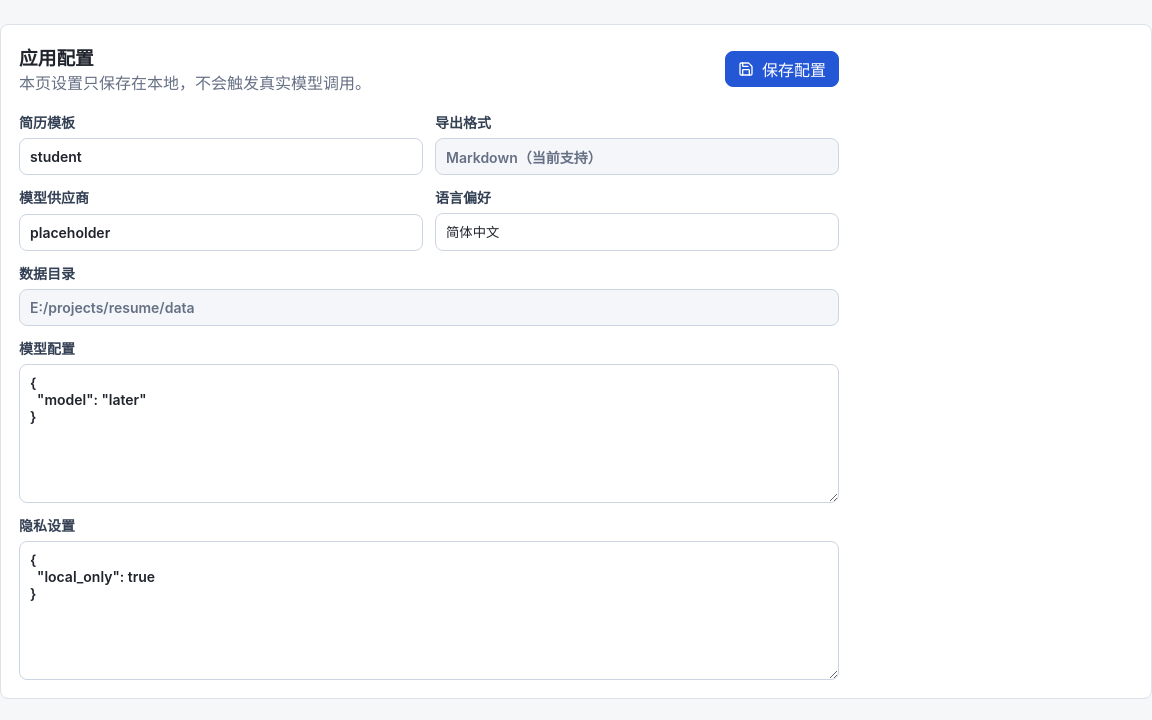
SettingsPage › retains the form and retries after saving fails
Replace the text in the field labelled "模型供应商" with "local-placeholder" at point(221, 232), box [19,214,423,251]
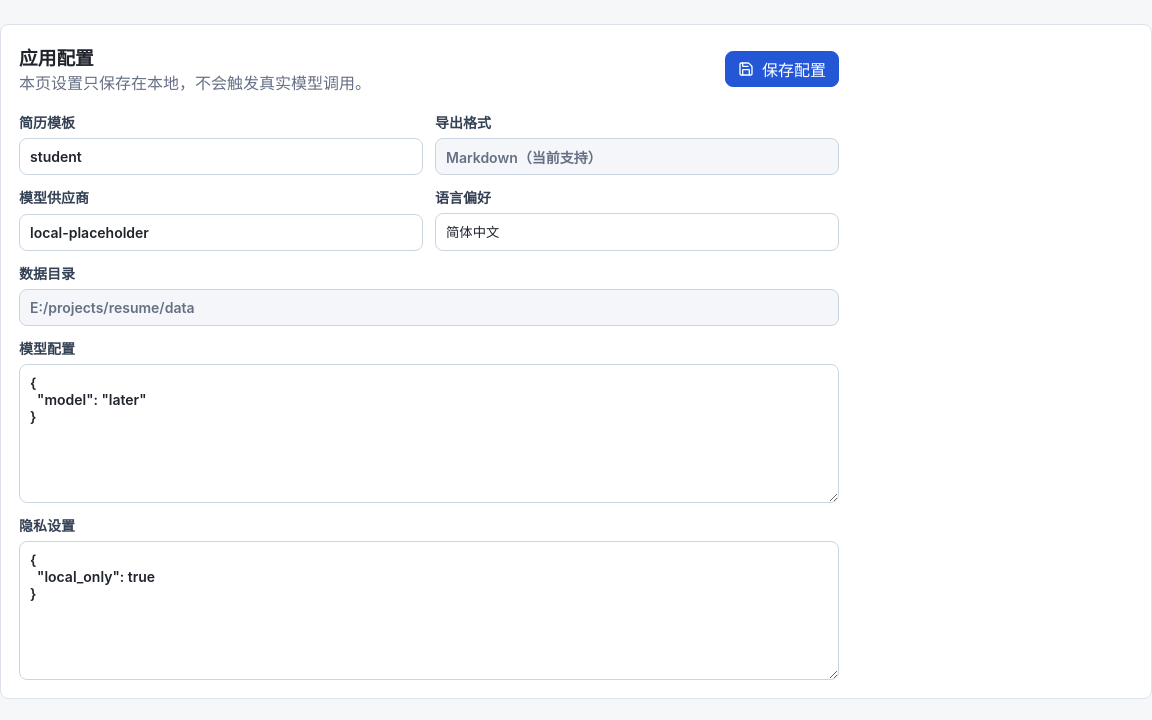
Click the button "保存配置" at point(782, 68), box [725,50,839,86]
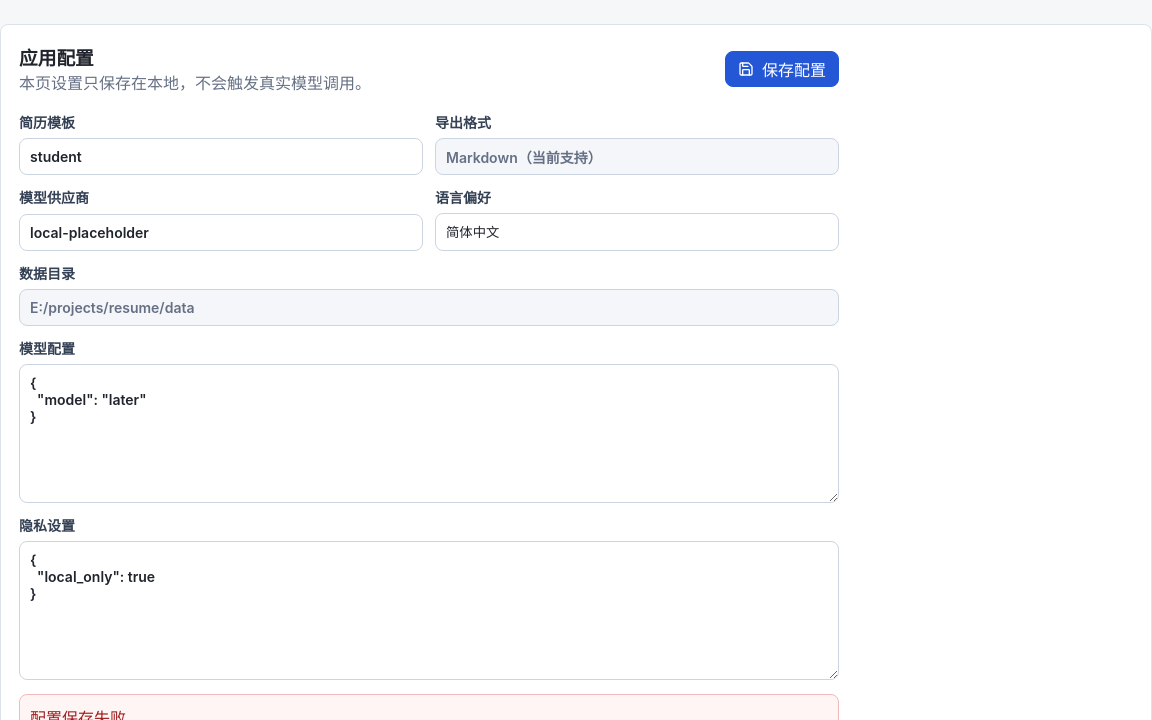
Click the button "保存配置" at point(782, 68), box [725,50,839,86]
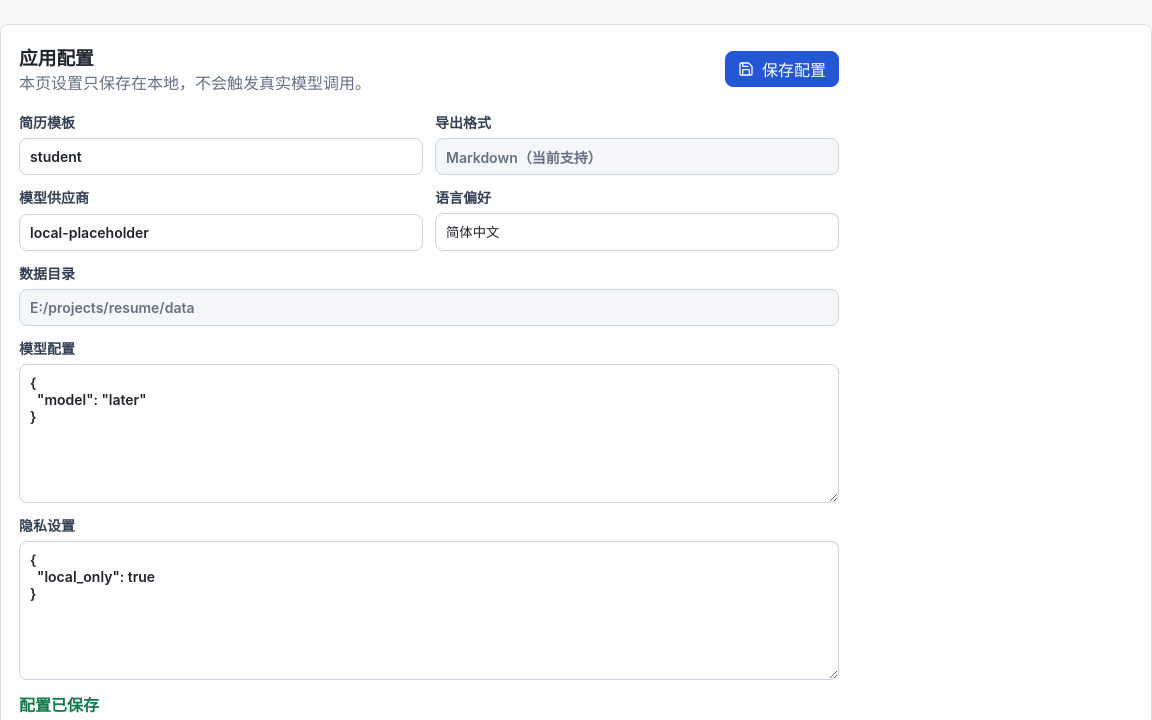
Expected: the text "配置已保存" is shown, [19,695,99,715]
